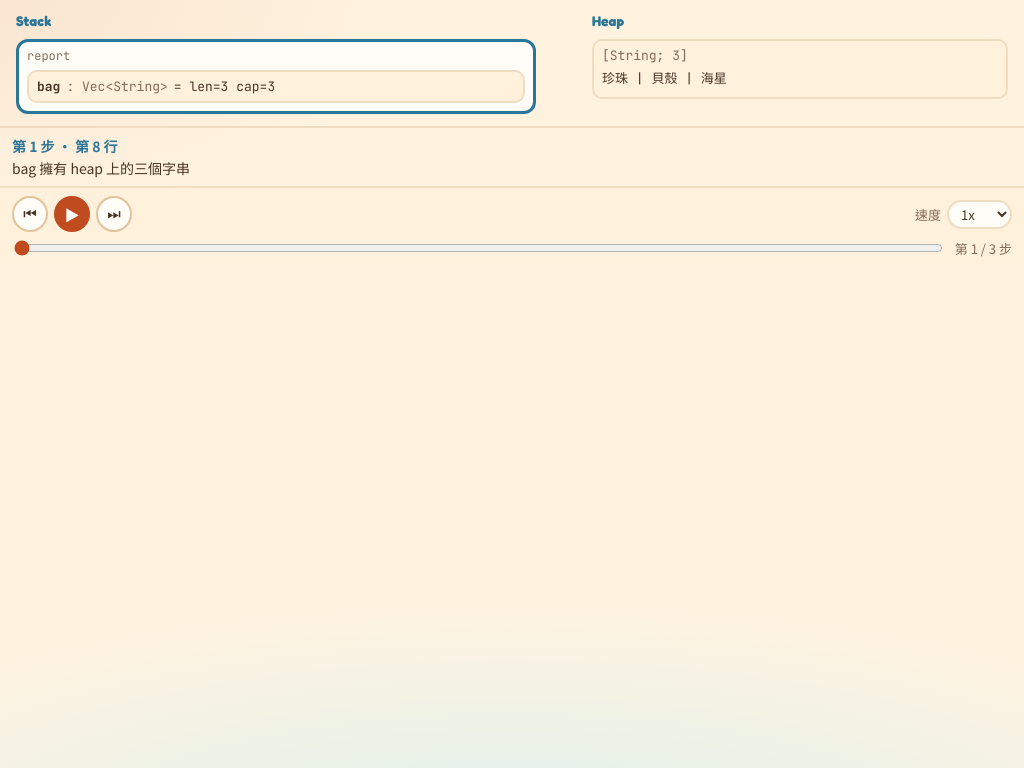
Scenario: F5 MemoryView › 單步前進到下一個快照
This screenshot has width=1024, height=768.
Click the button named "單步前進". click: click(114, 214)
box: top-left (96, 196), bottom-right (132, 232)
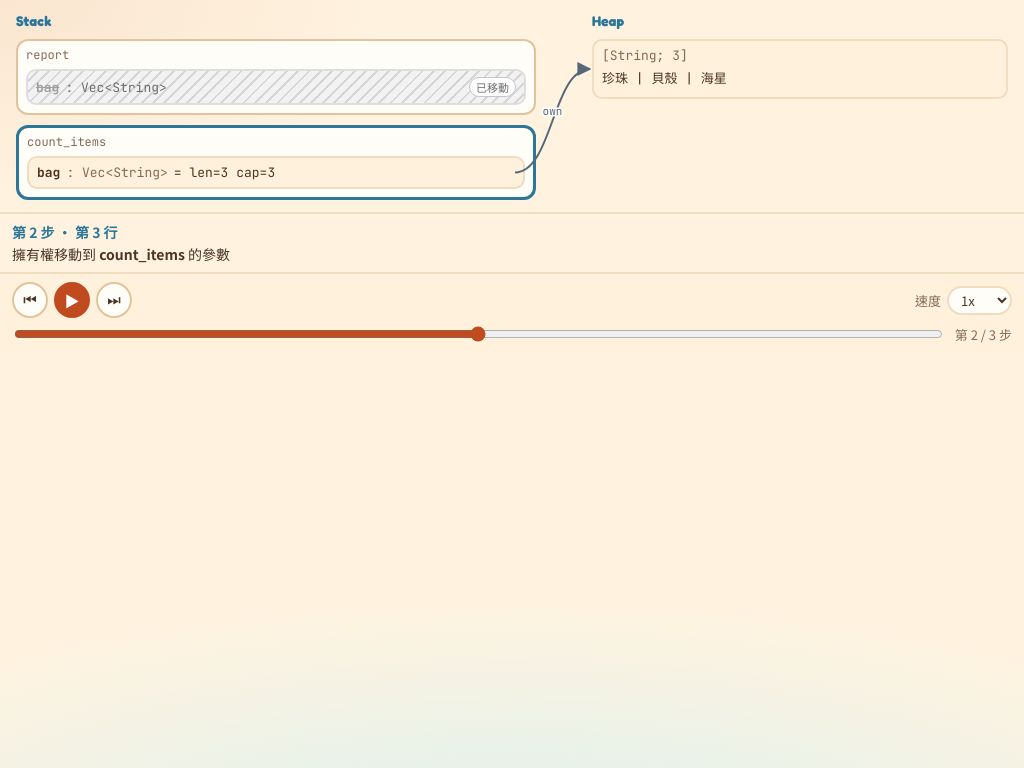
Result: the text with test id "mem-caption" reads "第 2 步 · 第 3 行" at top-left (12, 222), bottom-right (118, 242)
